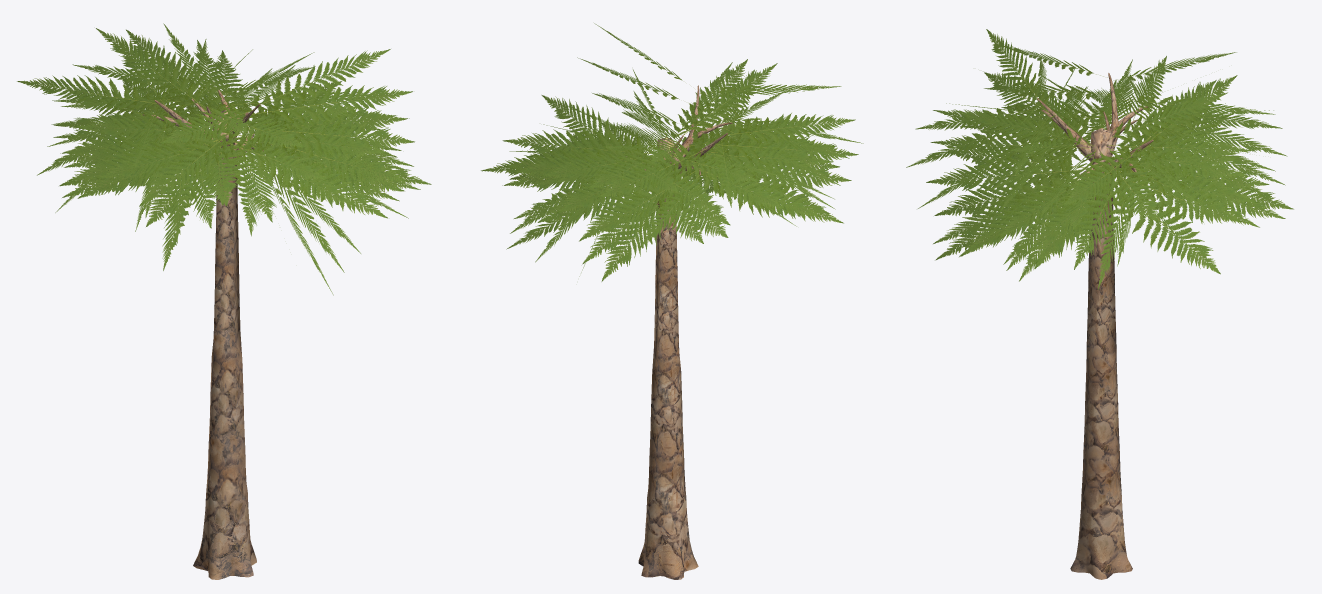
File: balmtreefb.fbx
3 renders of one model, left to right at view 1: azimuth 30°, elevation 25°; view 2: azimuth 150°, elevation 25°; view 3: azimuth 270°, elevation 25°, orthographic. The views are drawn at different scales.
Parts seen in each view (by area): view 1: fern02_1, palm01_0; view 2: fern02_1, palm01_0; view 3: fern02_1, palm01_0.
Boxes of the visible parts, x1=… form: fern02_1: x1=17, y1=23, x2=431, y2=295; palm01_0: x1=142, y1=89, x2=263, y2=579; fern02_1: x1=481, y1=23, x2=863, y2=281; palm01_0: x1=626, y1=85, x2=732, y2=579; fern02_1: x1=906, y1=29, x2=1293, y2=289; palm01_0: x1=1037, y1=73, x2=1153, y2=579.
Bounding box in the file's own units: 339 × 470 × 340.
